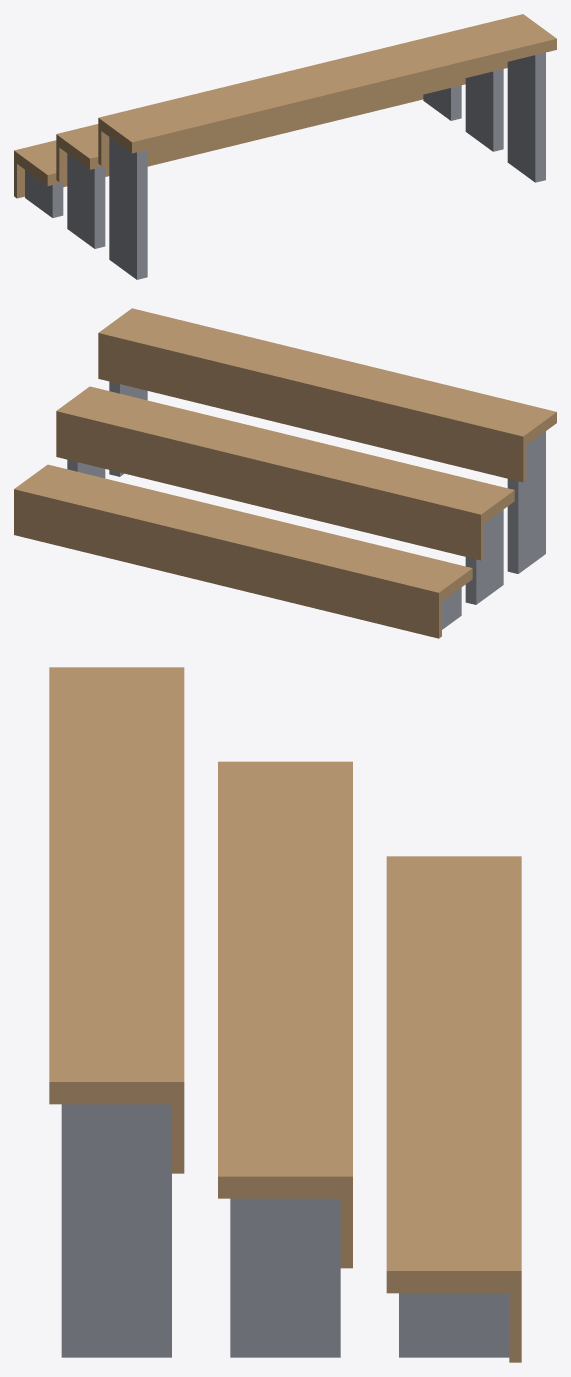
File: Arquibancada.glb
3 views of the same model, one above another, from view 1: azimuth 30°, elevation 25°; view 2: azimuth 150°, elevation 25°; view 3: azimuth 270°, elevation 25° (orthographic). The views are drawn at different scales.
Visible parts, largest first — view 1: Arquibancada; view 2: Arquibancada; view 3: Arquibancada.
Part boxes in pixels (<box>): Arquibancada: <box>14,14,556,279</box>; Arquibancada: <box>14,308,556,638</box>; Arquibancada: <box>49,667,521,1362</box>.
Size of the model in its own units: 3.2 by 1.02 by 1.54.
